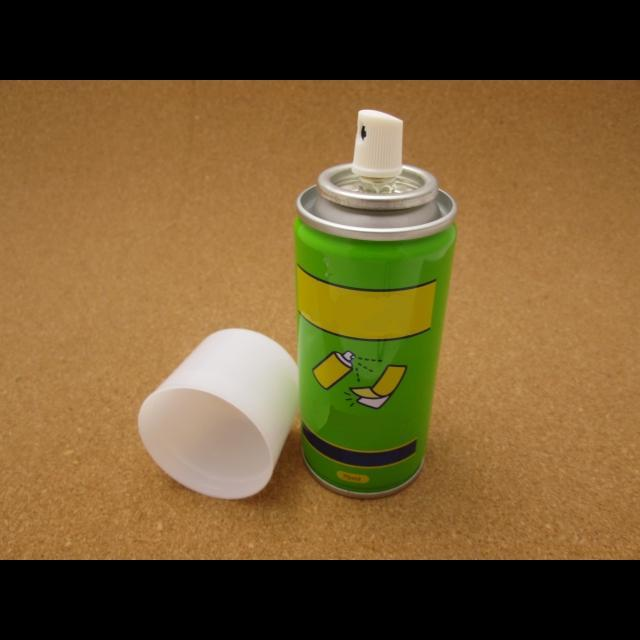chemical_spray_can: (295, 110, 458, 498)
